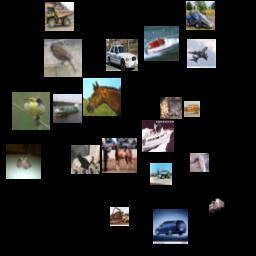airplane: (187, 39, 216, 68), (150, 163, 172, 185), (184, 101, 200, 117)
automobile: (153, 209, 188, 244), (106, 39, 138, 71)
bird: (12, 92, 50, 130), (44, 39, 82, 77), (190, 153, 209, 172)
cat: (71, 145, 100, 174)
frog: (6, 144, 41, 179), (160, 97, 182, 119)
ship: (144, 26, 179, 61), (142, 120, 174, 152), (53, 94, 82, 123)
truck: (186, 1, 215, 30), (45, 2, 74, 31), (110, 207, 129, 226), (209, 198, 225, 214)
